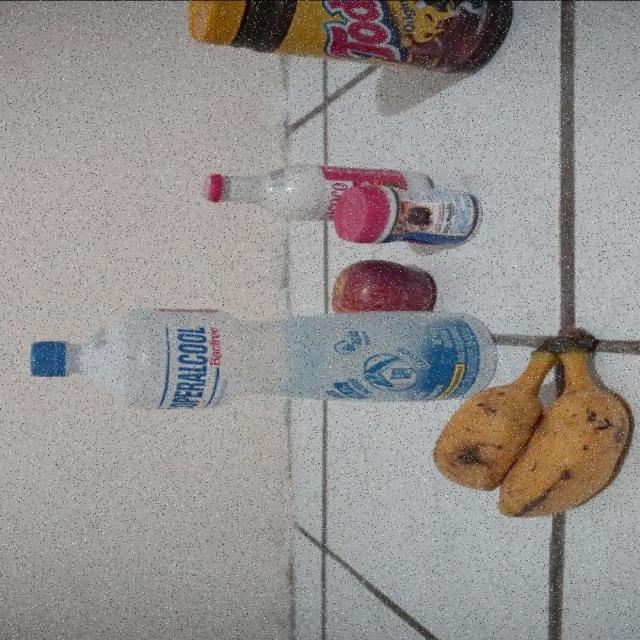AlcoholBottle: (23, 310, 414, 410)
Apple: (316, 260, 438, 311)
Banana: (433, 331, 640, 521)
ChocolatePowder: (189, 0, 513, 72)
CoconutMilk: (200, 161, 325, 221)
Yeast: (332, 187, 478, 249)
